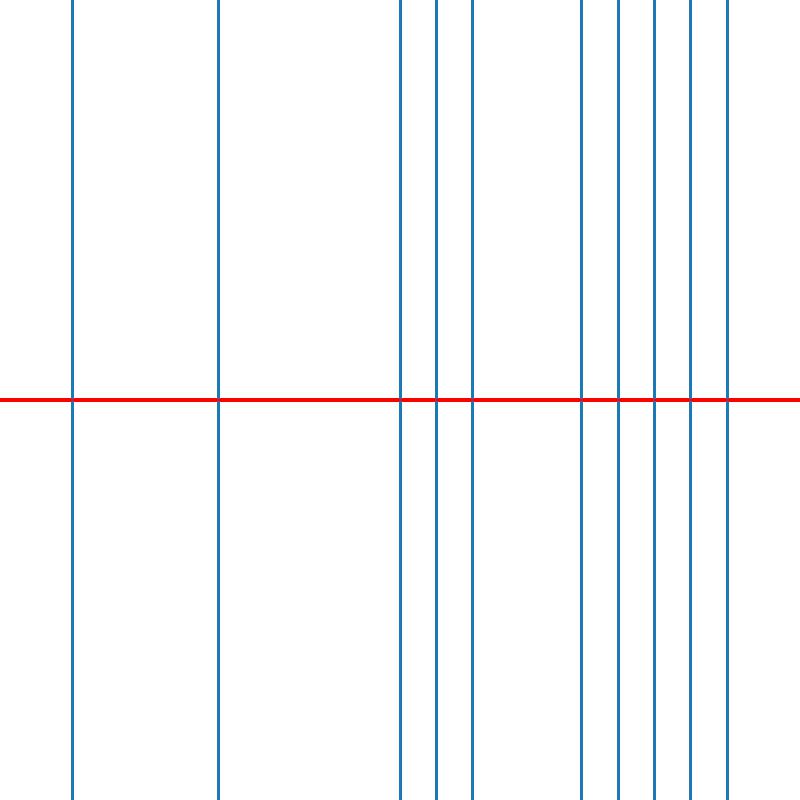root: (650, 396, 658, 404), (432, 396, 440, 404), (469, 396, 476, 404), (687, 396, 694, 404), (614, 396, 621, 404), (723, 396, 730, 404), (214, 396, 221, 404), (396, 396, 403, 404), (578, 396, 585, 404), (69, 396, 76, 404)
